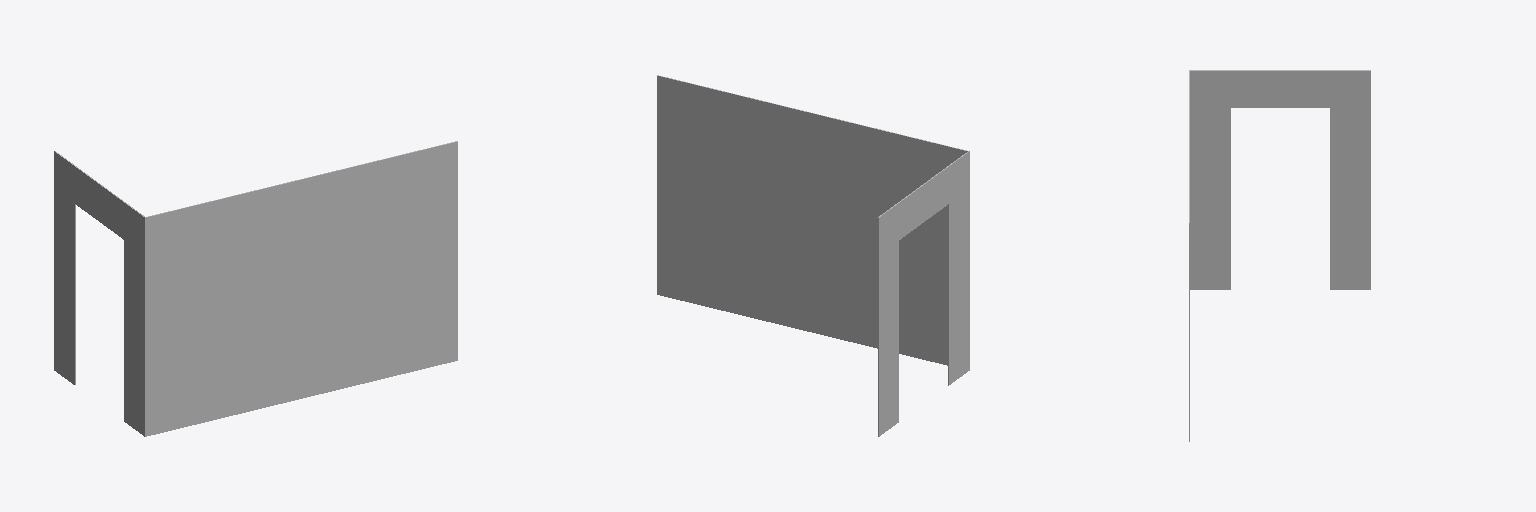
The model's file is vidro01.obj.
3 renders of one model, left to right at view 1: azimuth 30°, elevation 25°; view 2: azimuth 150°, elevation 25°; view 3: azimuth 270°, elevation 25°, orthographic.
Parts seen in each view (by area): view 1: pilares_1andar.012_Plane.005; view 2: pilares_1andar.012_Plane.005; view 3: pilares_1andar.012_Plane.005.
Part boxes in pixels (x1,y1,x2,y2): pilares_1andar.012_Plane.005: (54,141,457,436); pilares_1andar.012_Plane.005: (657,75,969,436); pilares_1andar.012_Plane.005: (1189,70,1370,441).
Bounding box in the file's own units: 6.29 × 4.22 × 3.17.